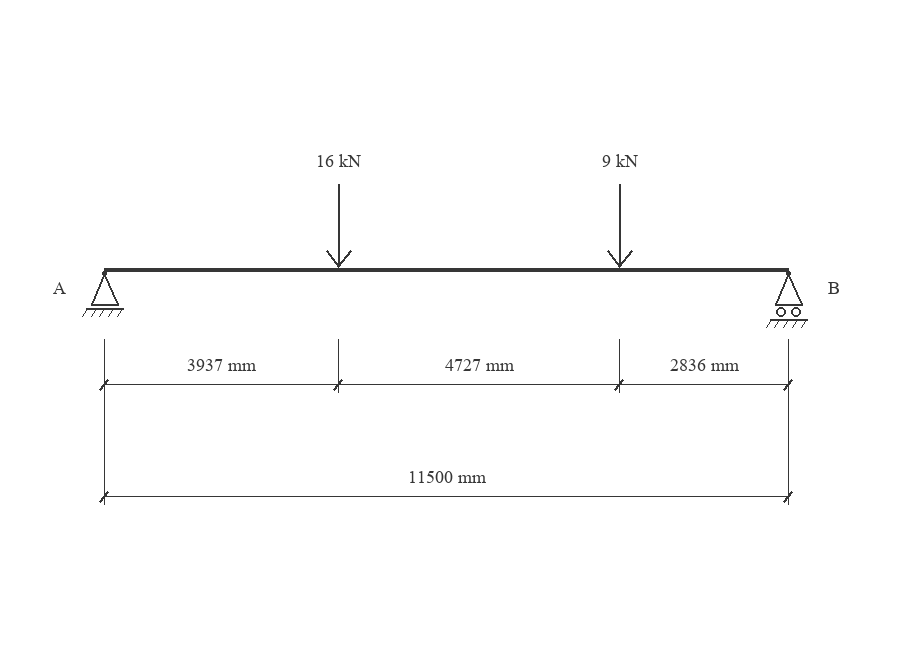pin_support: (82, 271, 124, 317)
point_load: (326, 184, 352, 268), (607, 184, 633, 268)
roller_support: (766, 271, 808, 328)
